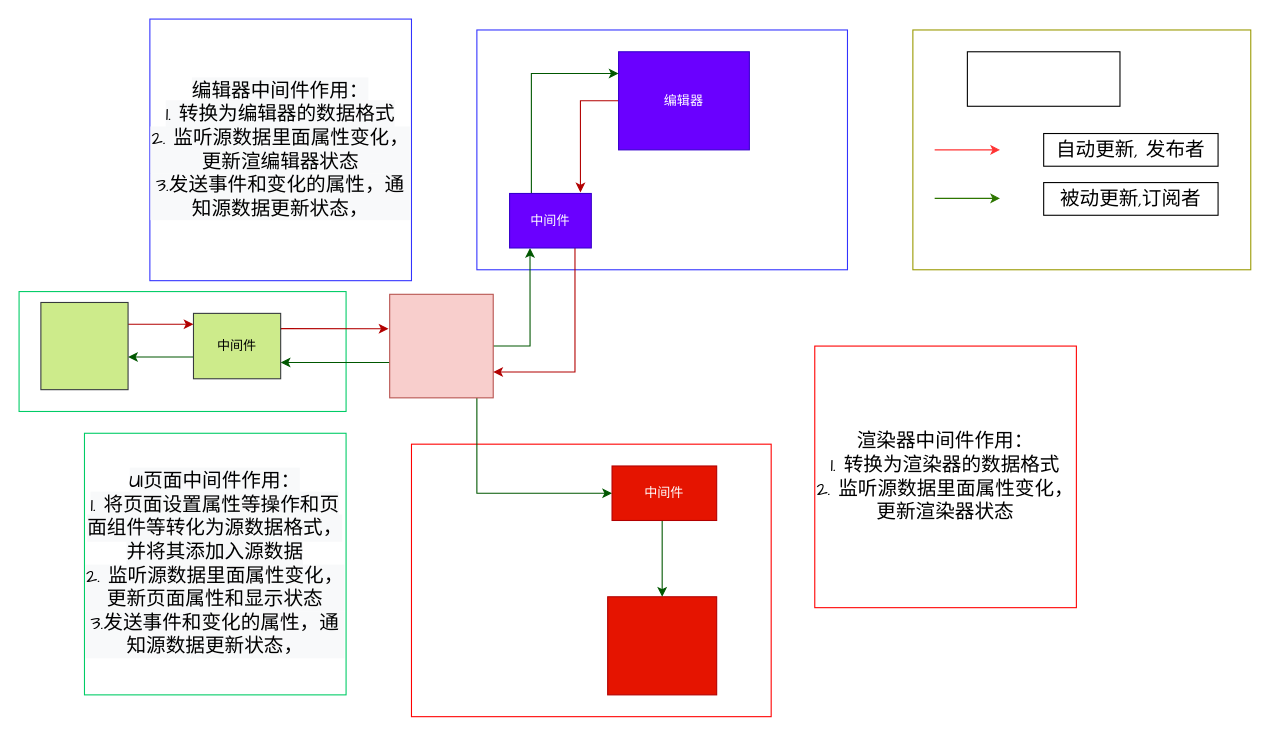
This 1270x736 diagram has some shape labels left out. Here are the shapes that lost their labels. From the top down, the centre of each, then its label:
At point (1043, 78): "发布订阅模式".
At point (84, 345): "UI页面".
At point (441, 345): "源数据".
At point (662, 645): "渲染器".
